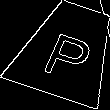P_N: (38, 21, 97, 81)
